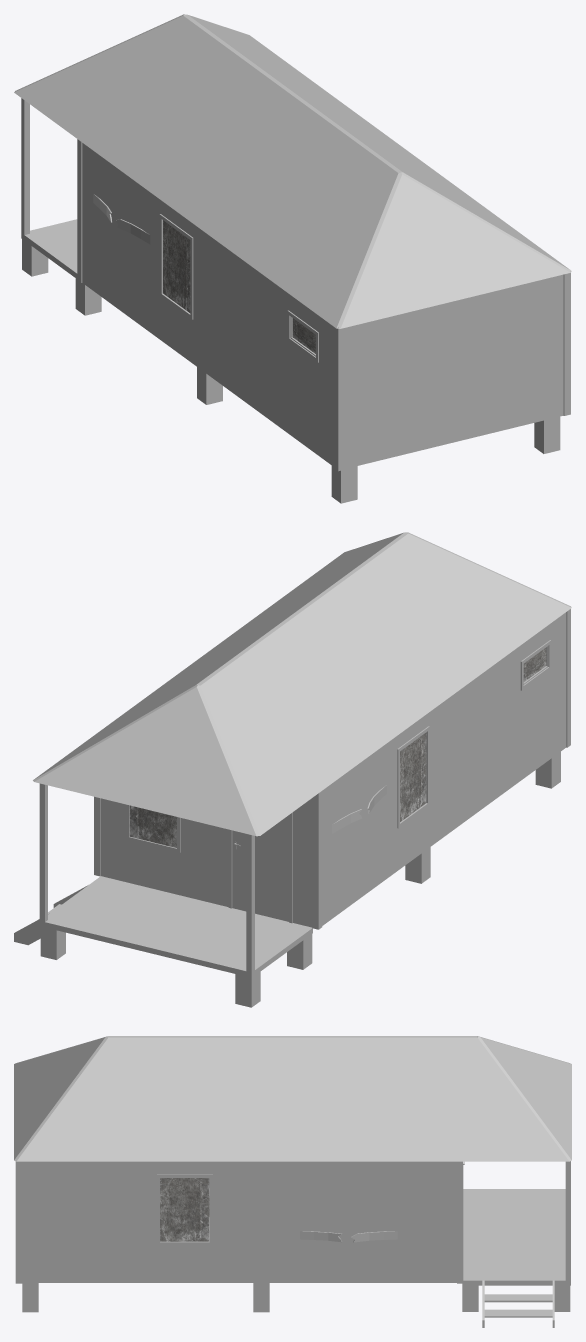
Rendered from Suburbs_house1.fbx.
3 renders of one model, top to bottom at view 1: azimuth 30°, elevation 25°; view 2: azimuth 150°, elevation 25°; view 3: azimuth 270°, elevation 25°, orthographic. The views are drawn at different scales.
Visible parts, largest first — view 1: Cube.1227, Cube.1284, Plane.535; view 2: Cube.1227, Cube.1284, Cube.025, Plane.535, Plane.006; view 3: Cube.1227, Cube.1284, Plane.534, Plane.533.
Part boxes in pixels (bbox=[...]): Cube.1227: bbox=[14, 14, 571, 328]; Cube.1284: bbox=[21, 98, 570, 503]; Plane.535: bbox=[163, 225, 190, 310]; Cube.1227: bbox=[33, 532, 571, 836]; Cube.1284: bbox=[14, 606, 570, 1007]; Cube.025: bbox=[232, 815, 288, 920]; Plane.535: bbox=[400, 738, 426, 820]; Plane.006: bbox=[129, 805, 176, 847]; Cube.1227: bbox=[14, 1036, 571, 1161]; Cube.1284: bbox=[15, 1160, 570, 1327]; Plane.534: bbox=[160, 1178, 209, 1241]; Plane.533: bbox=[160, 1178, 209, 1241].
Size of the model in its own units: 490 by 468 by 1027.
